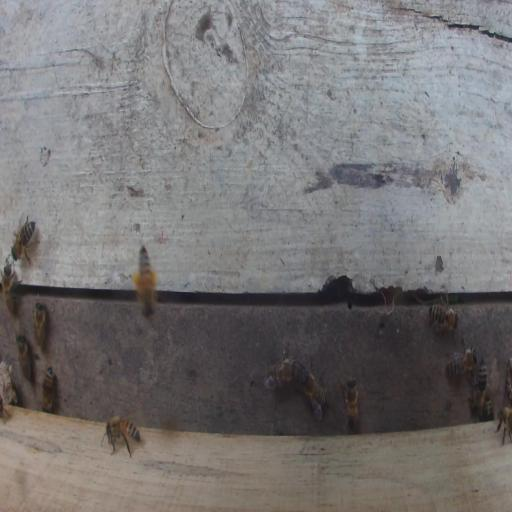bee: (131, 246, 158, 318), (296, 365, 327, 422), (101, 414, 141, 458), (265, 342, 297, 389), (10, 217, 37, 265), (427, 297, 459, 333), (446, 340, 477, 377), (1, 257, 19, 319), (340, 377, 359, 431), (470, 358, 487, 412), (16, 332, 33, 382), (33, 299, 47, 350), (495, 406, 512, 445), (42, 365, 54, 413), (481, 395, 493, 420)
